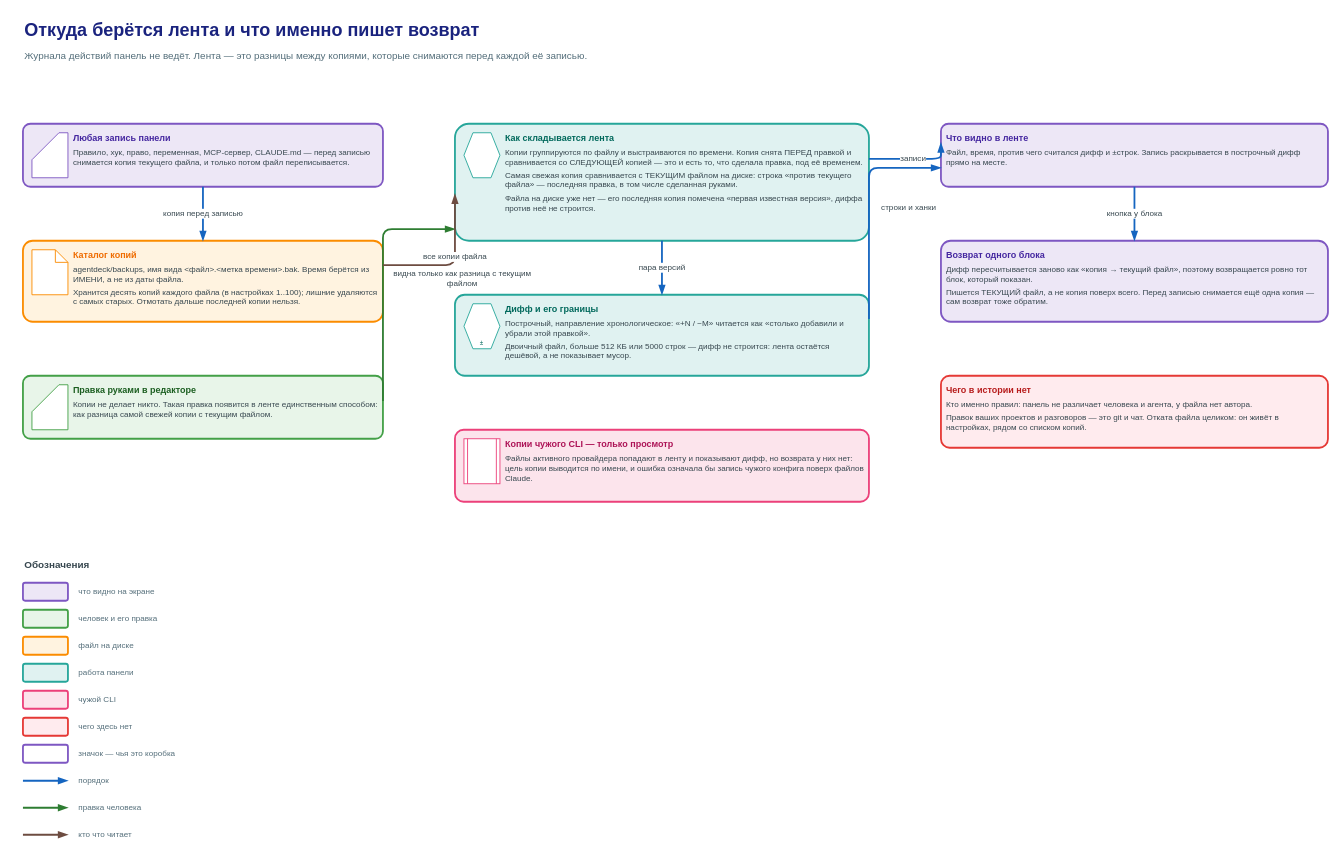
This 1344x859 diagram has some shape labels left out. The shapes that lost their labels are listed below. From the top down, each one's centre as x and y in pixels, then its label:
At point (49, 155): "правка".
At point (481, 155): "лента".
At point (49, 272): "bak".
At point (49, 407): "вы".
At point (481, 461): "CLI".
